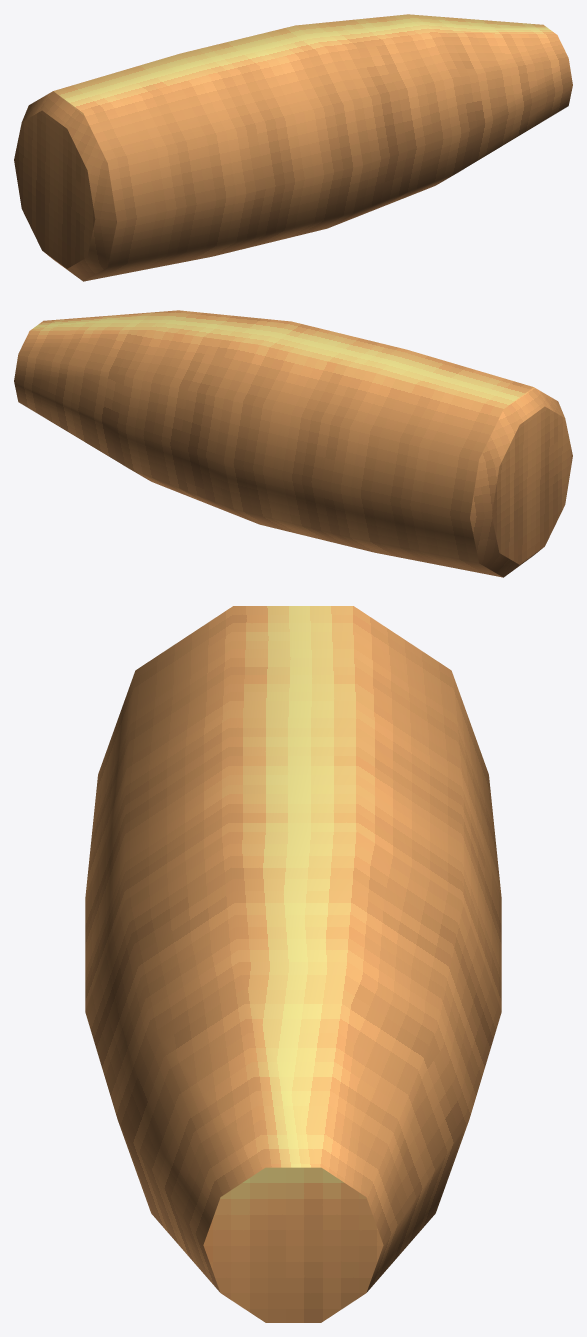
The model's file is ammomaker_BulletRifleSHP.fbx.
3 renders of one model, top to bottom at view 1: azimuth 30°, elevation 25°; view 2: azimuth 150°, elevation 25°; view 3: azimuth 270°, elevation 25°, orthographic. The views are drawn at different scales.
Parts seen in each view (by area): view 1: ammomaker_BulletRifleSHP; view 2: ammomaker_BulletRifleSHP; view 3: ammomaker_BulletRifleSHP.
Part boxes in pixels (bbox=[...]): ammomaker_BulletRifleSHP: bbox=[14, 14, 572, 281]; ammomaker_BulletRifleSHP: bbox=[14, 310, 572, 577]; ammomaker_BulletRifleSHP: bbox=[85, 606, 501, 1322].
Bounding box in the file's own units: 1.57 × 0.5421 × 0.57.
